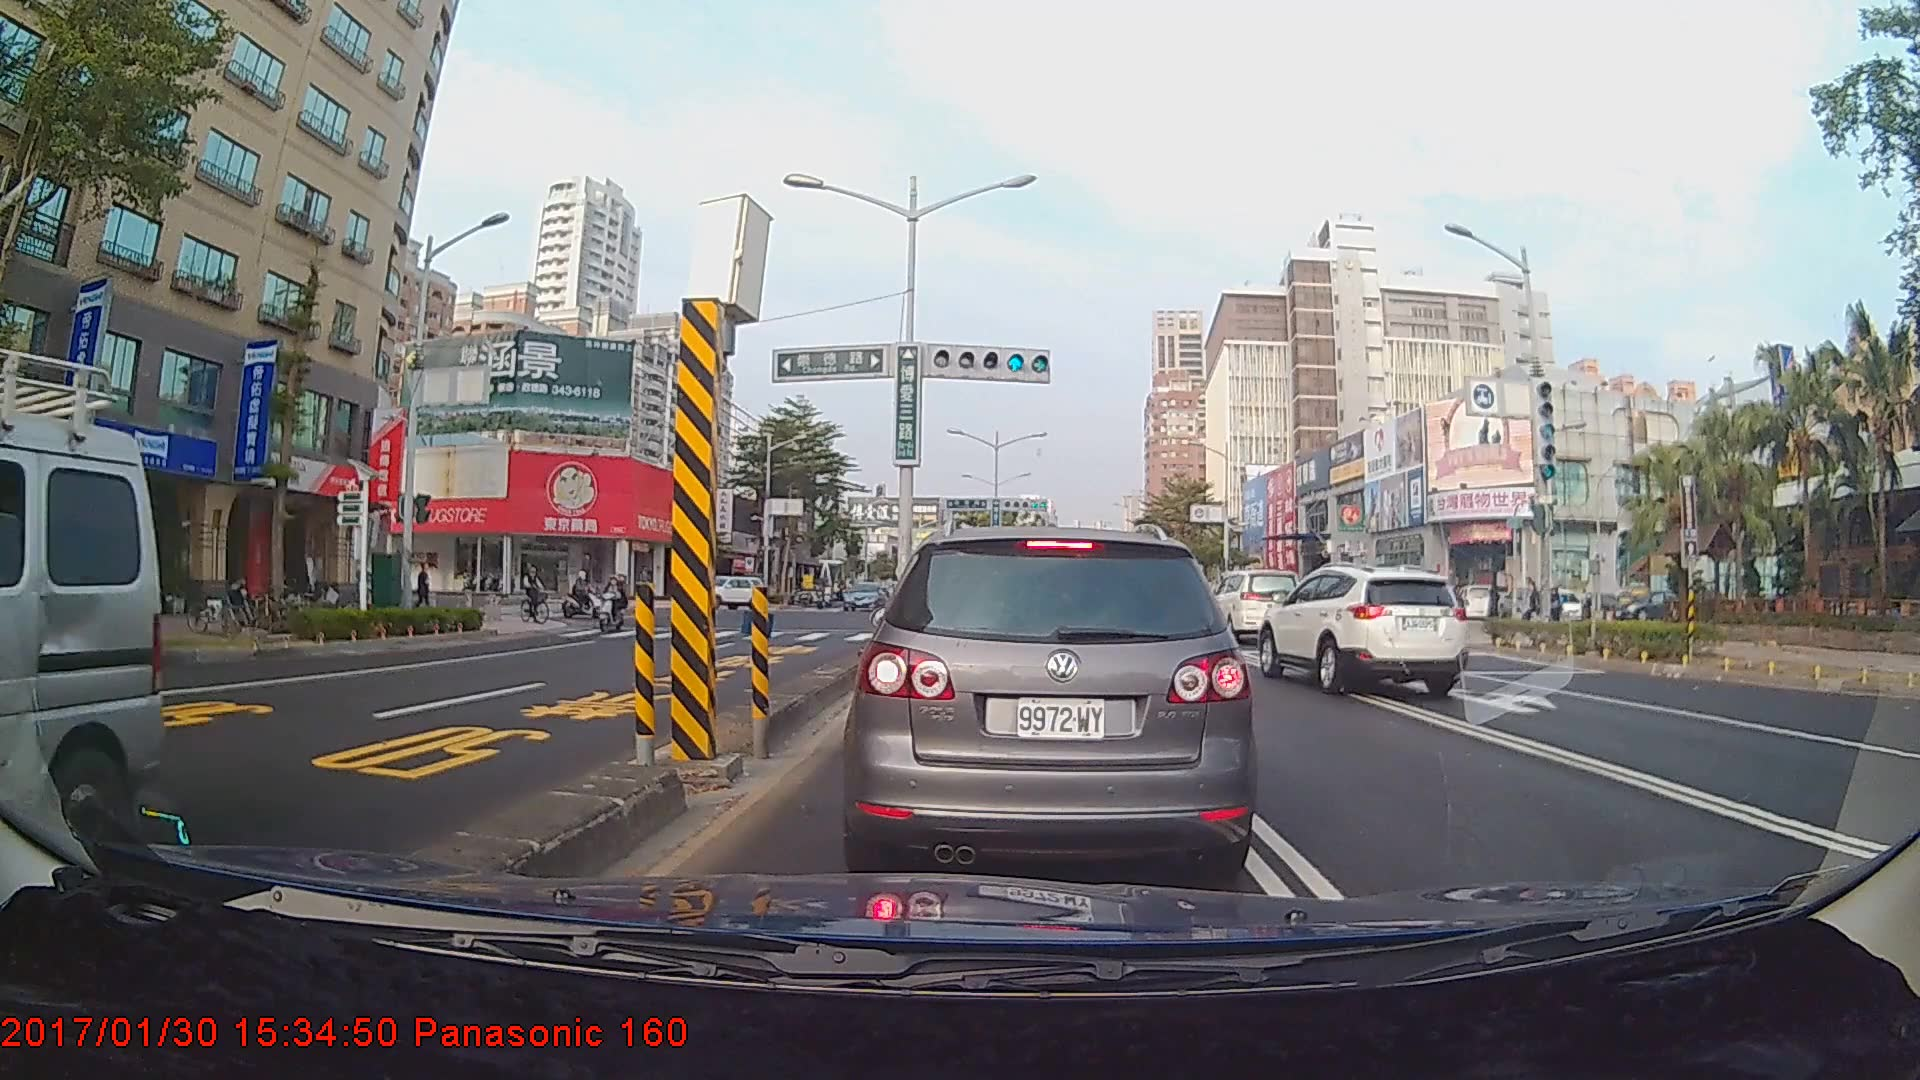pedestrian: (412, 558, 436, 621), (1486, 579, 1509, 637)
rider: (562, 568, 614, 625), (593, 570, 636, 639), (518, 559, 553, 629)
vehicle: (855, 520, 1246, 883), (0, 338, 172, 876), (1258, 562, 1470, 694), (1200, 567, 1302, 641), (843, 580, 885, 612)
